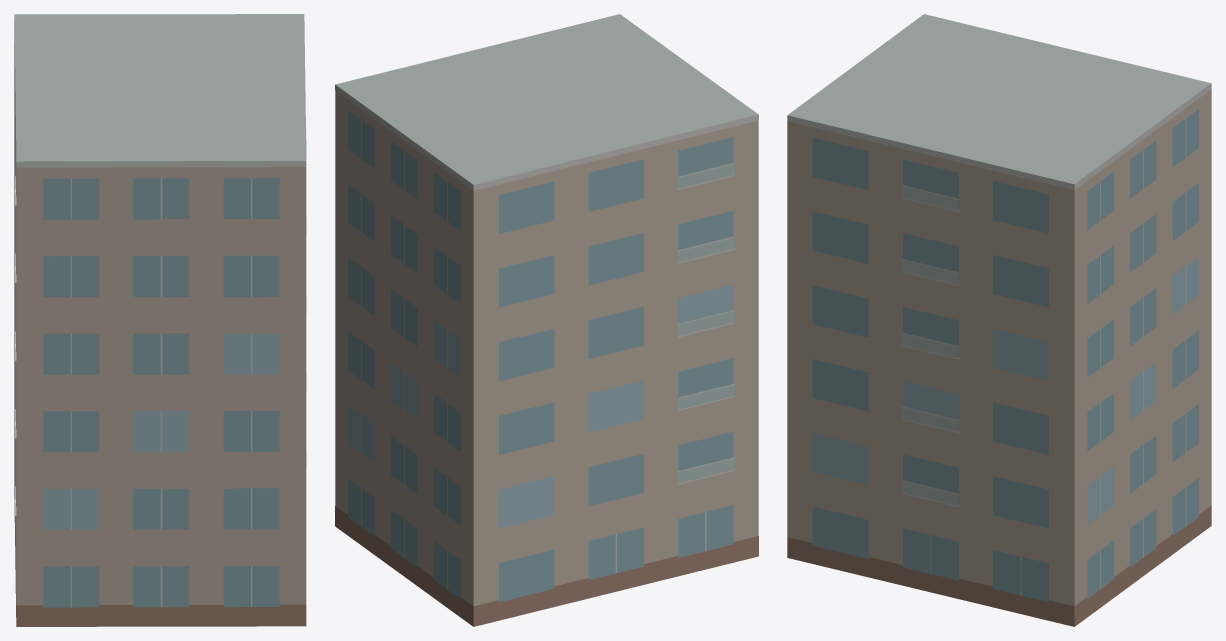
Rendered from survey-upis-32740996.glb.
3 views of the same model, side by side, from view 1: azimuth 30°, elevation 25°; view 2: azimuth 150°, elevation 25°; view 3: azimuth 270°, elevation 25° (orthographic). The views are drawn at different scales.
Parts seen in each view (by area): view 1: survey-upis-32740996.tmp; view 2: survey-upis-32740996.tmp; view 3: survey-upis-32740996.tmp.
Boxes of the visible parts, x1,y1,x2,y2 form: survey-upis-32740996.tmp: [14, 14, 306, 626]; survey-upis-32740996.tmp: [335, 14, 758, 626]; survey-upis-32740996.tmp: [787, 14, 1211, 626].
Bounding box in the file's own units: 15.11 × 18.3 × 15.91.
